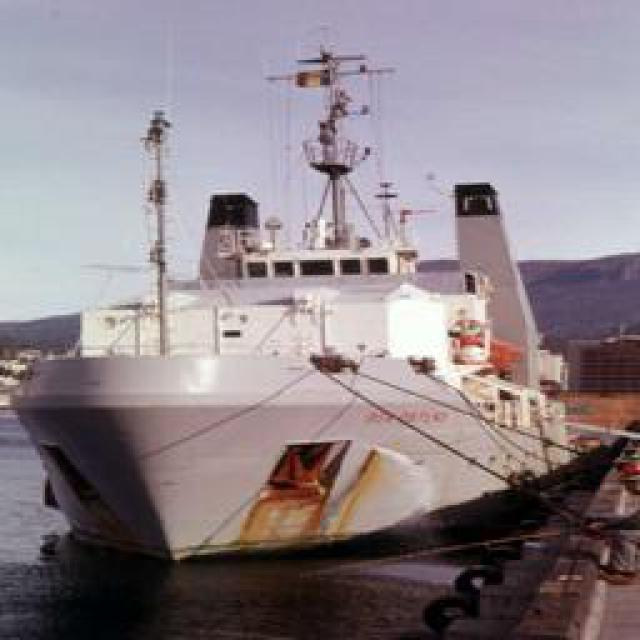Ship: (17, 152, 627, 572)
